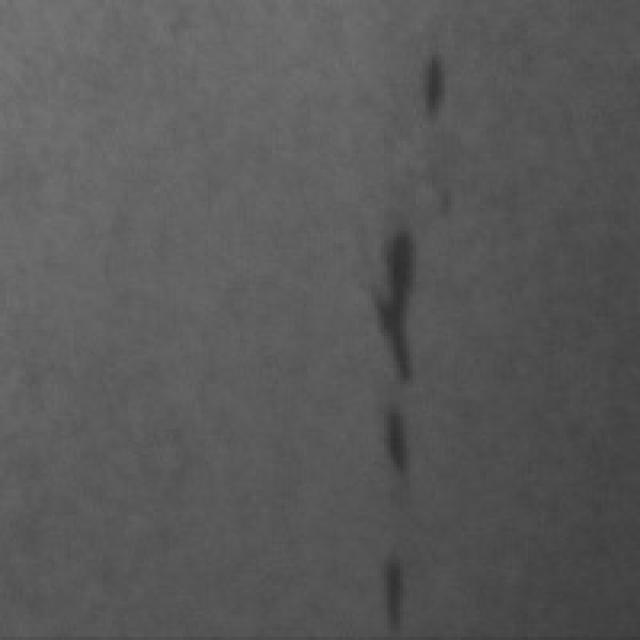inclusion: (358, 218, 426, 390), (368, 387, 413, 480), (406, 38, 452, 128), (371, 544, 413, 630)
